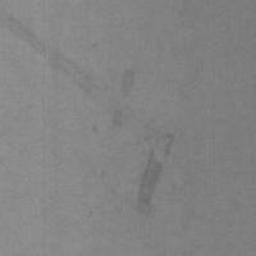Water spot: (0, 9, 138, 138), (136, 131, 178, 215)
